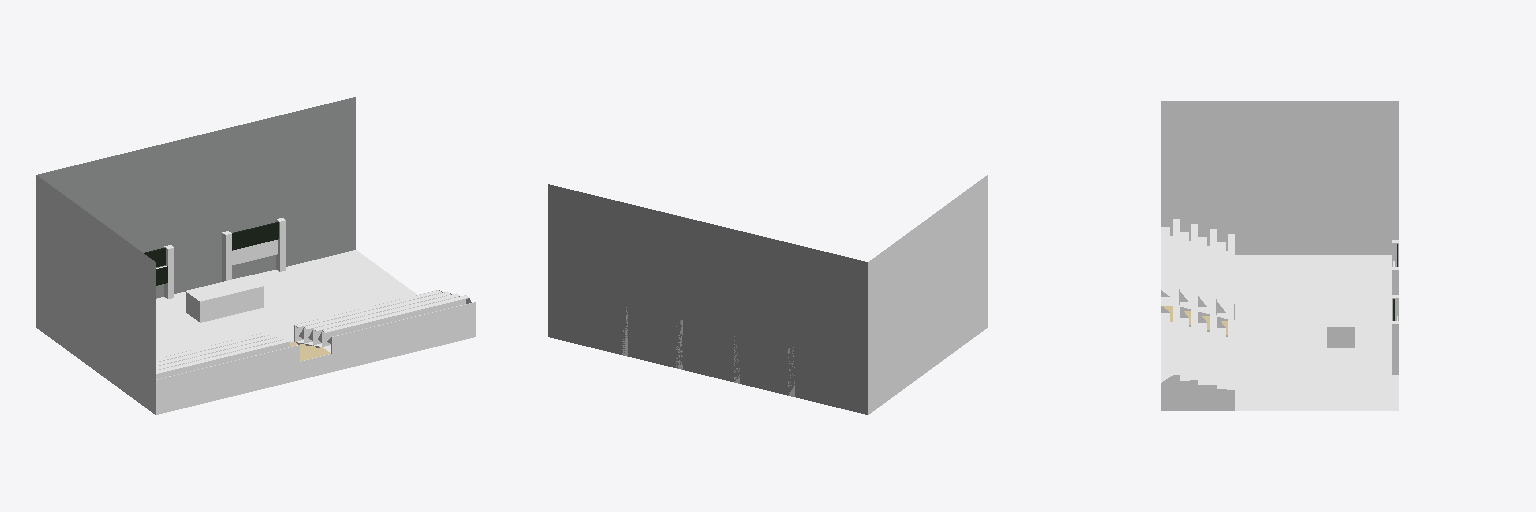
The model's file is lectureroom.obj.
3 views of the same model, side by side, from view 1: azimuth 30°, elevation 25°; view 2: azimuth 150°, elevation 25°; view 3: azimuth 270°, elevation 25° (orthographic).
Visible parts, largest first — view 1: Mesh1 Model; view 2: Mesh1 Model; view 3: Mesh1 Model.
Part boxes in pixels (x1,y1,x2,y2): Mesh1 Model: (36, 97, 475, 414); Mesh1 Model: (548, 175, 987, 414); Mesh1 Model: (1161, 101, 1398, 410).
Bounding box in the file's own units: 20 × 9.15 × 12.93.